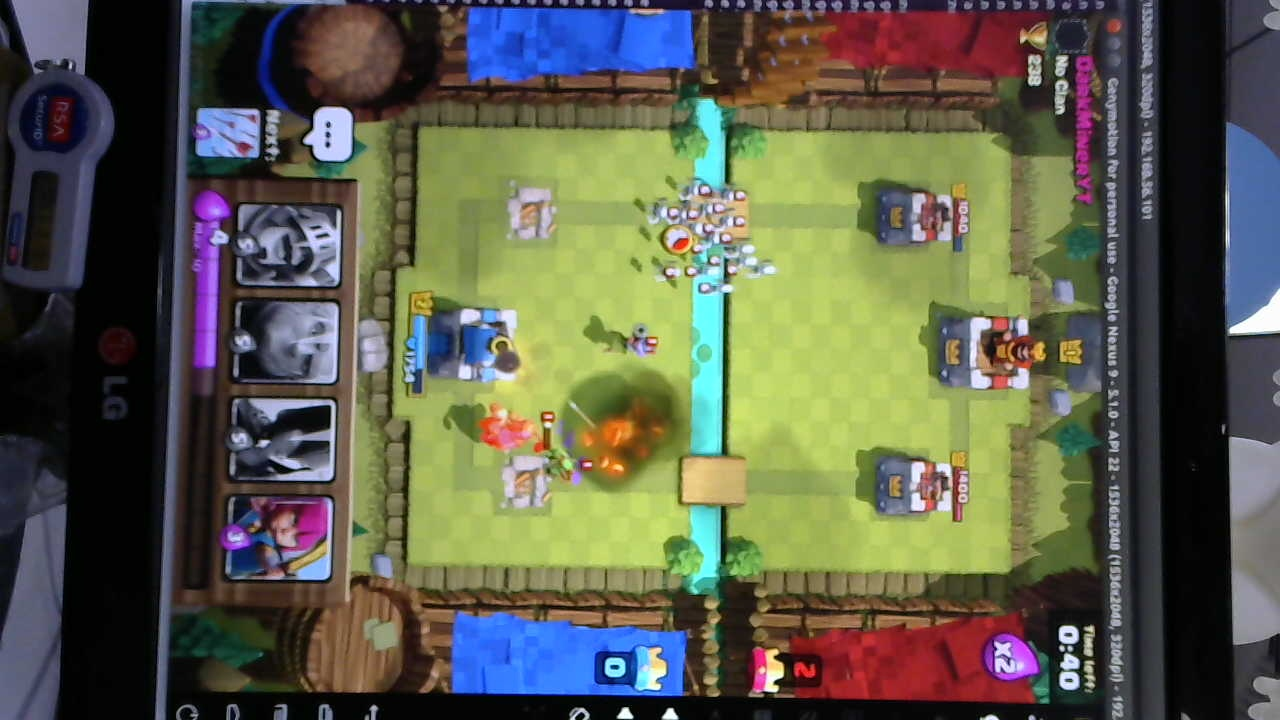darena: (495, 450, 551, 521), (503, 184, 559, 248)
earena: (870, 184, 956, 250), (872, 454, 950, 519)
eking: (940, 311, 1040, 394)
king: (435, 301, 523, 387)
musketeer: (617, 327, 661, 360)
prince: (477, 402, 539, 455)
skeletonarmy: (642, 176, 774, 294)
speargoblin: (541, 441, 581, 494)
